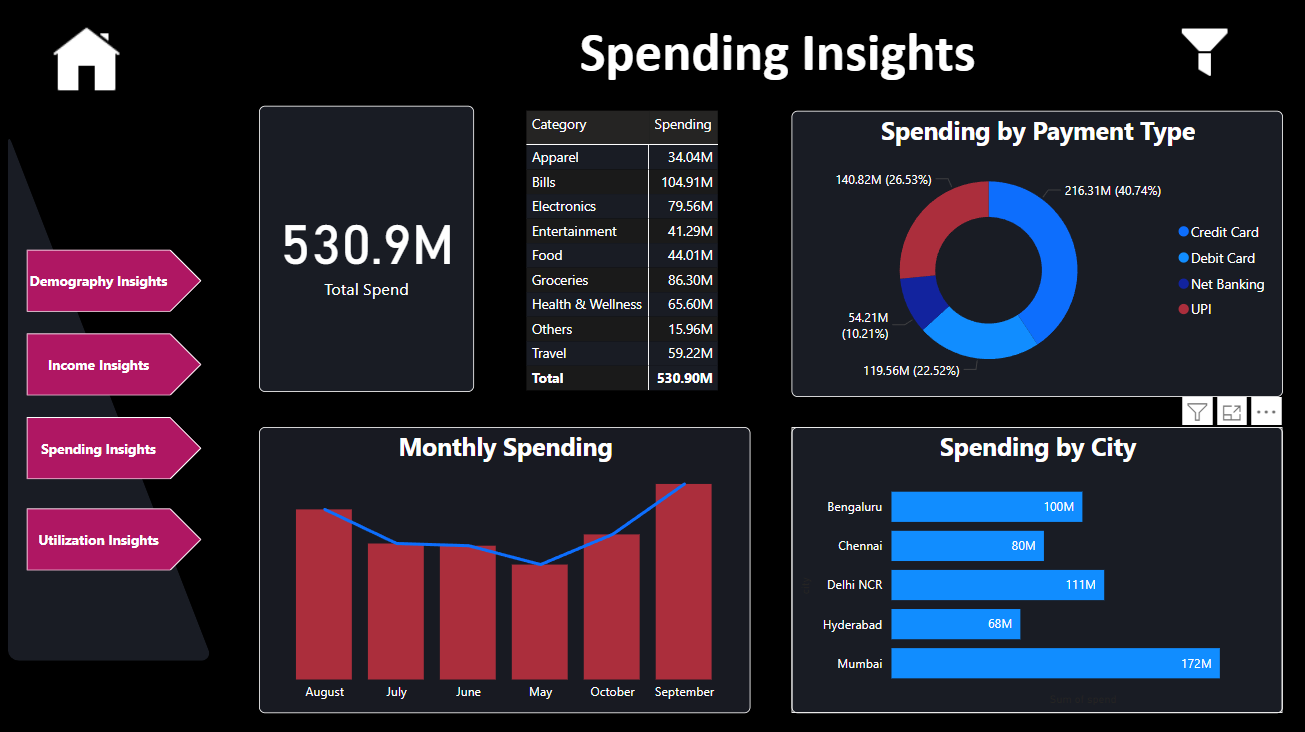

Layout of this report page (visuals, bound fields, positions):
{"tool":"powerbi","page":{"name":"Spending Insights","canvas":[1280,720],"ordinal":3},"visuals":[{"type":"shape","box":[8.6,132.1,200.5,517.3],"z":0,"group":"g1"},{"type":"barChart","title":"Spending by City","fields":{"Category":["dim_customers.city"],"Y":["Sum(fact_spends.spend)"]},"box":[775.3,420.7,480.6,280],"z":0},{"type":"donutChart","title":"Spending by Payment Type","fields":{"Category":["fact_spends.payment_type"],"Y":["Sum(fact_spends.spend)"]},"box":[775.3,111.3,480.6,280],"z":1000},{"type":"shape","box":[26.9,500.2,171.2,61.1],"z":1000,"group":"g1"},{"type":"group","id":"g1","title":"Nav Panel","box":[8.6,132.1,200.5,517.3],"z":2000},{"type":"shape","box":[26.9,410.9,171.2,61.1],"z":2000,"group":"g1"},{"type":"shape","box":[560.1,14.7,403.5,77],"z":3000},{"type":"shape","box":[26.9,329,171.2,61.1],"z":3000,"group":"g1"},{"type":"image","box":[1149.5,23.2,59.9,61.1],"z":4000},{"type":"shape","box":[26.9,247,171.2,61.1],"z":4000,"group":"g1"},{"type":"lineStackedColumnComboChart","title":"Monthly Spending","fields":{"Category":["fact_spends.month"],"Y":["Sum(fact_spends.spend)"],"Y2":["Sum(fact_spends.spend)"]},"box":[254.3,420.7,480.6,280],"z":6000},{"type":"card","fields":{"Values":["Sum(fact_spends.spend)"]},"box":[254.3,106.4,210.3,280],"z":7000},{"type":"pivotTable","fields":{"Rows":["fact_spends.category"],"Values":["Sum(fact_spends.spend)"]},"box":[511.1,106.4,223.8,299.6],"z":8000},{"type":"image","box":[47.7,23.2,75.8,77],"z":9000}]}

Visuals, with their boxes in screenshot pixels (x1, y1, x2, y2), scaled from the page's 1280x720 canvas onto the 1305x732 screenshot:
shape: pyautogui.locateOnScreen(9, 134, 213, 660)
"Spending by City" barChart: pyautogui.locateOnScreen(790, 428, 1280, 712)
"Spending by Payment Type" donutChart: pyautogui.locateOnScreen(790, 113, 1280, 398)
shape: pyautogui.locateOnScreen(27, 509, 202, 571)
"Nav Panel" group: pyautogui.locateOnScreen(9, 134, 213, 660)
shape: pyautogui.locateOnScreen(27, 418, 202, 480)
shape: pyautogui.locateOnScreen(571, 15, 982, 93)
shape: pyautogui.locateOnScreen(27, 334, 202, 397)
image: pyautogui.locateOnScreen(1172, 24, 1233, 86)
shape: pyautogui.locateOnScreen(27, 251, 202, 313)
"Monthly Spending" lineStackedColumnComboChart: pyautogui.locateOnScreen(259, 428, 749, 712)
card - Sum(fact_spends.spend): pyautogui.locateOnScreen(259, 108, 474, 393)
pivotTable - fact_spends.category x Sum(fact_spends.spend): pyautogui.locateOnScreen(521, 108, 749, 413)
image: pyautogui.locateOnScreen(49, 24, 126, 102)
